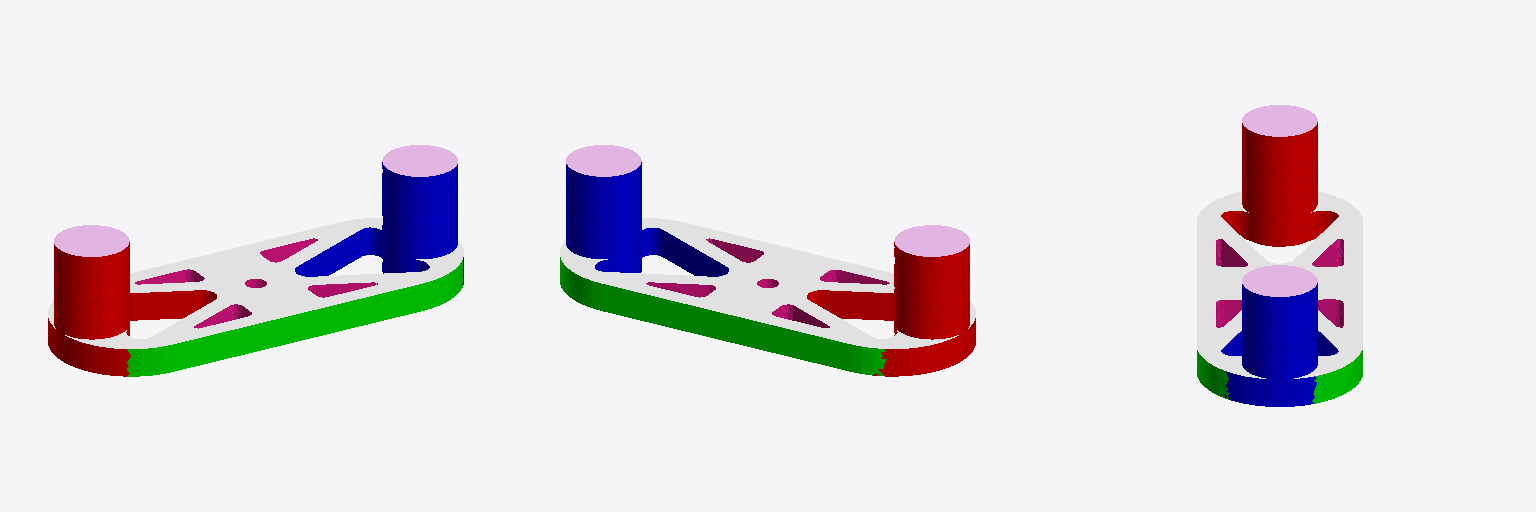
File: model_20079_segmented.obj
3 renders of one model, left to right at view 1: azimuth 30°, elevation 25°; view 2: azimuth 150°, elevation 25°; view 3: azimuth 270°, elevation 25°, orthographic.
Size of the model in its own units: 47.62 by 12.71 by 17.46.